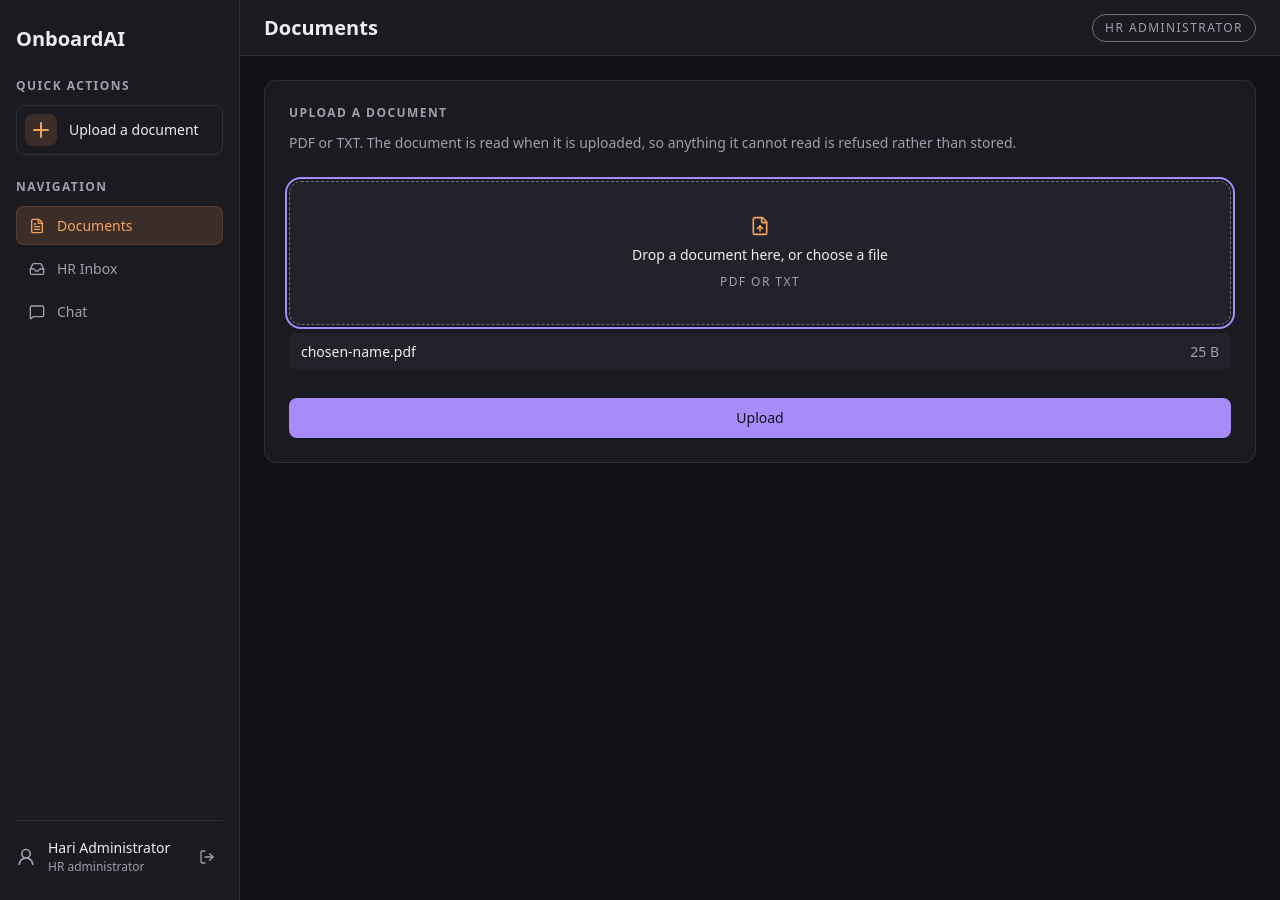
Test: when the upload succeeds › shows what the server recorded, not what was chosen
Earlier steps of the test are not shown.
Click the button "Upload": (760, 418) x1=289 y1=398 x2=1231 y2=438
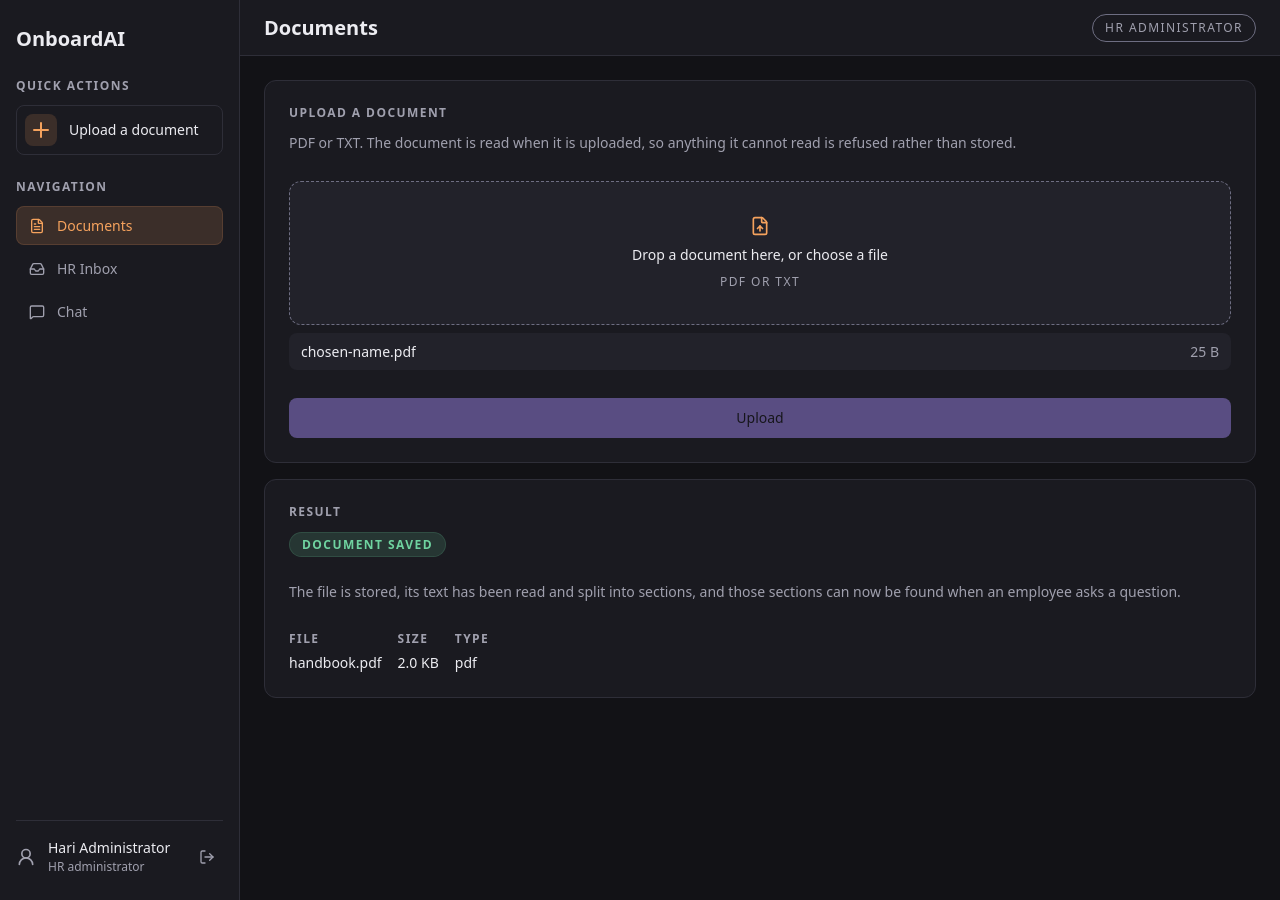
Expected: the text "handbook.pdf" is shown, x1=289 y1=652 x2=382 y2=673
Expected: the text "pdf" is shown, x1=455 y1=653 x2=477 y2=672
Expected: the text "2.0 KB" is shown, x1=398 y1=652 x2=439 y2=673
